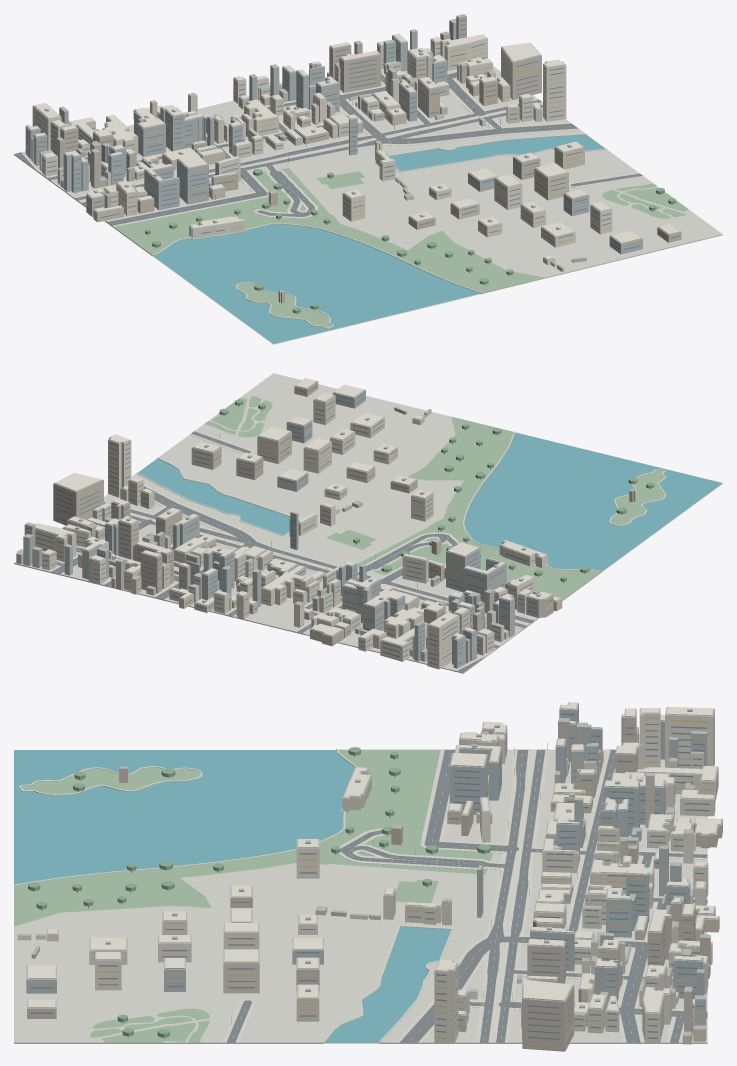
3 views of the same model, one above another, from view 1: azimuth 30°, elevation 25°; view 2: azimuth 150°, elevation 25°; view 3: azimuth 270°, elevation 25° (orthographic). The views are drawn at different scales.
Parts seen in each view (by area): view 1: city; view 2: city; view 3: city.
Boxes of the visible parts, x1,y1,x2,y2 form: city: [14, 14, 722, 344]; city: [14, 373, 722, 673]; city: [14, 702, 722, 1051].
Bounding box in the file's own units: 524 × 58.85 × 511.
